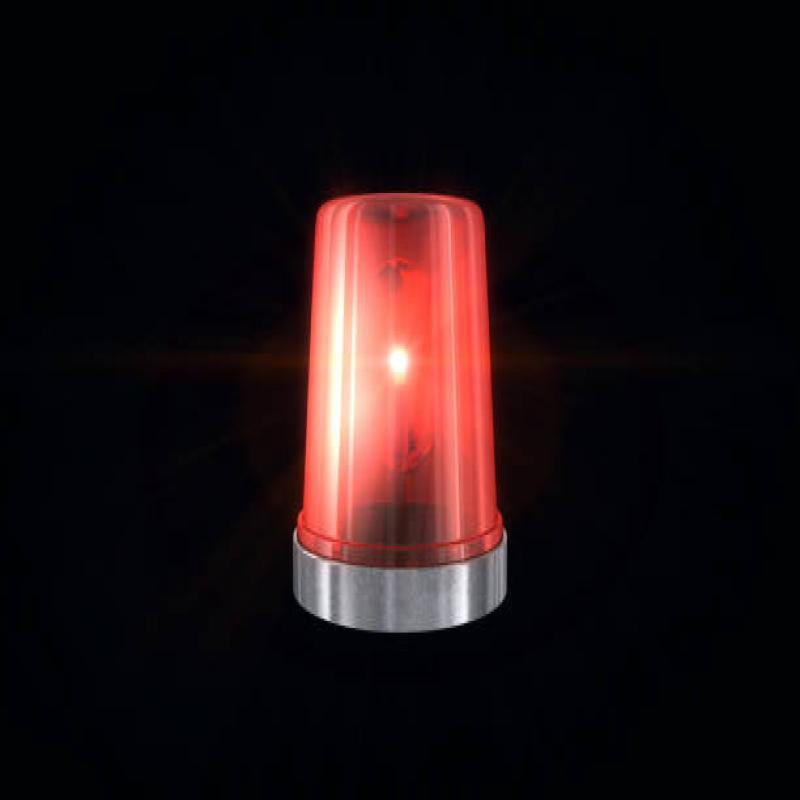AmbulanceSiren: (265, 147, 519, 699)
